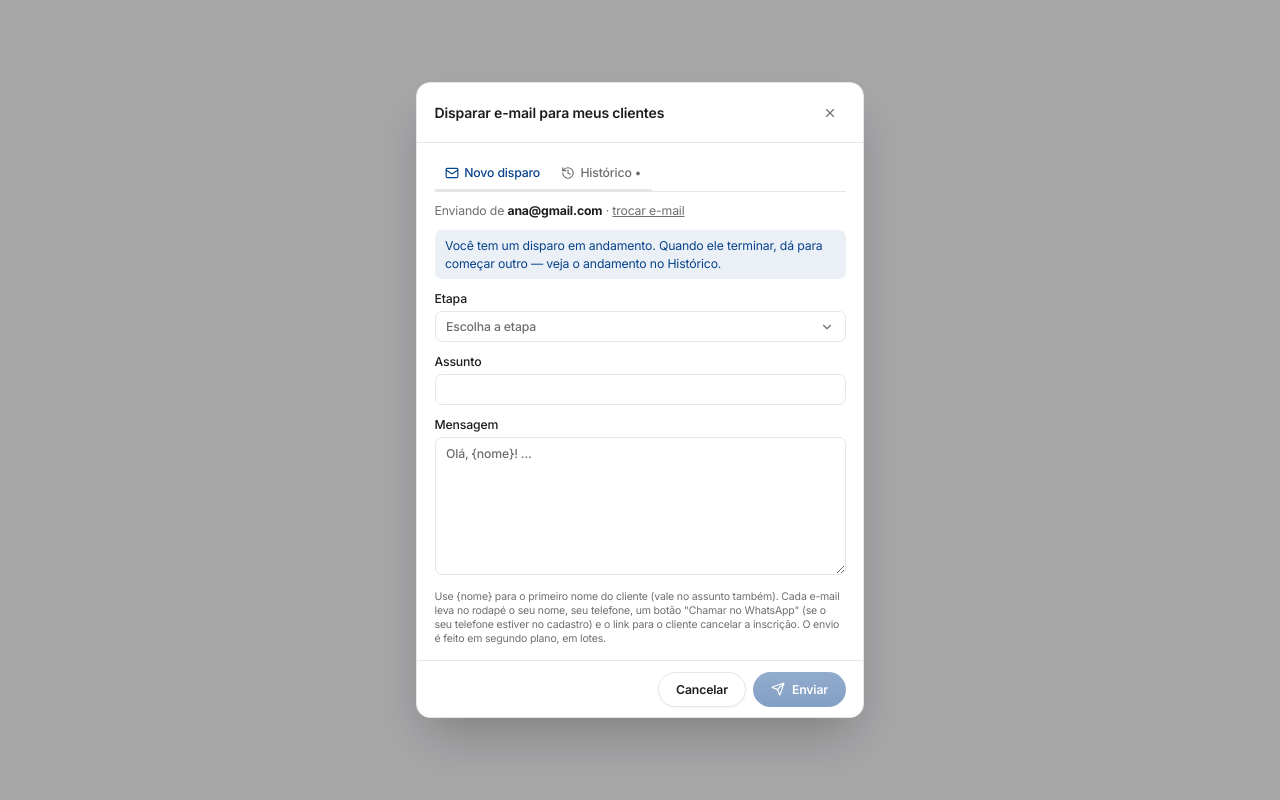
it: DisparoEmailDialog › o histórico mostra andamento (barra), contagem, falhas e o motivo de um disparo que falhou
The image size is (1280, 800).
Click the tab "Histórico •": (601, 174) top-left (551, 157), bottom-right (652, 191)
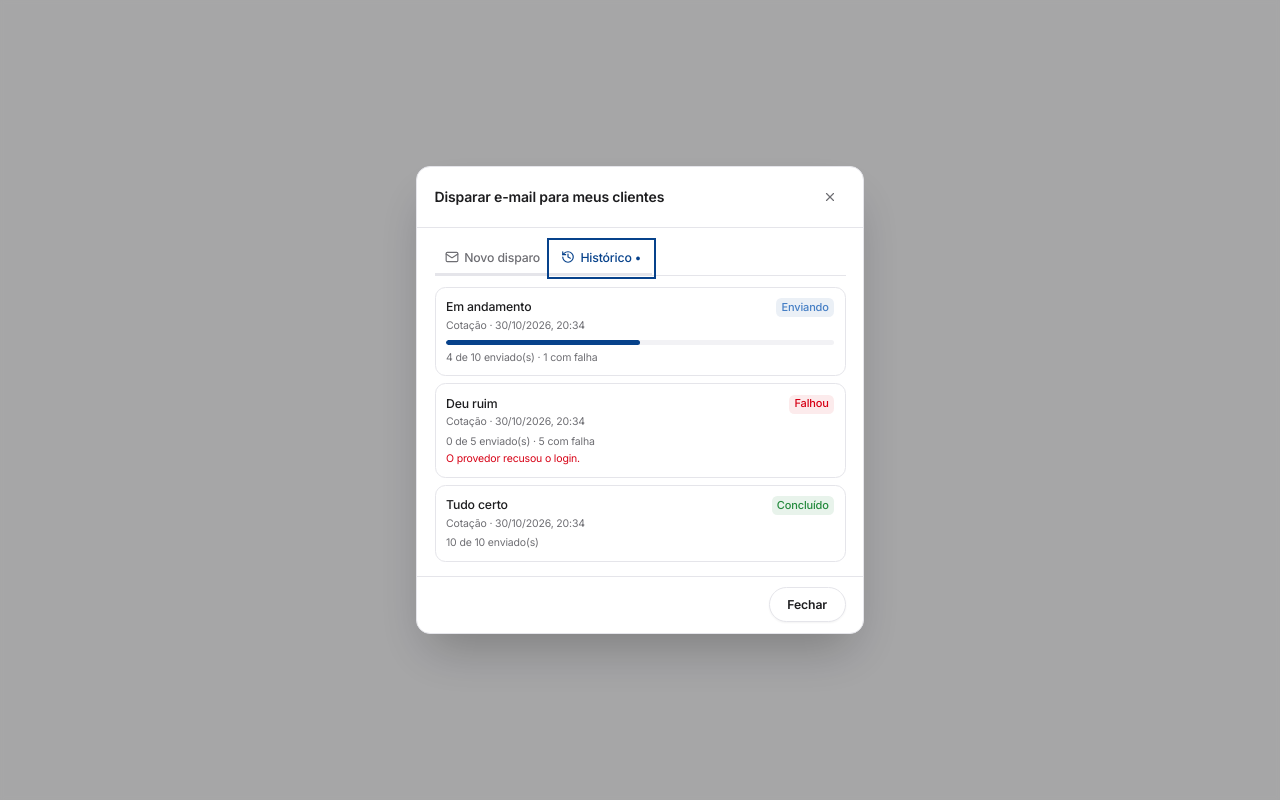
Check: the text "4 de 10 enviado(s) · 1 com falha" is shown, box top-left (446, 350), bottom-right (598, 364)
Check: the text "O provedor recusou o login." is shown, box top-left (446, 452), bottom-right (580, 465)
Check: the text "10 de 10 enviado(s)" is shown, box top-left (446, 536), bottom-right (539, 549)
